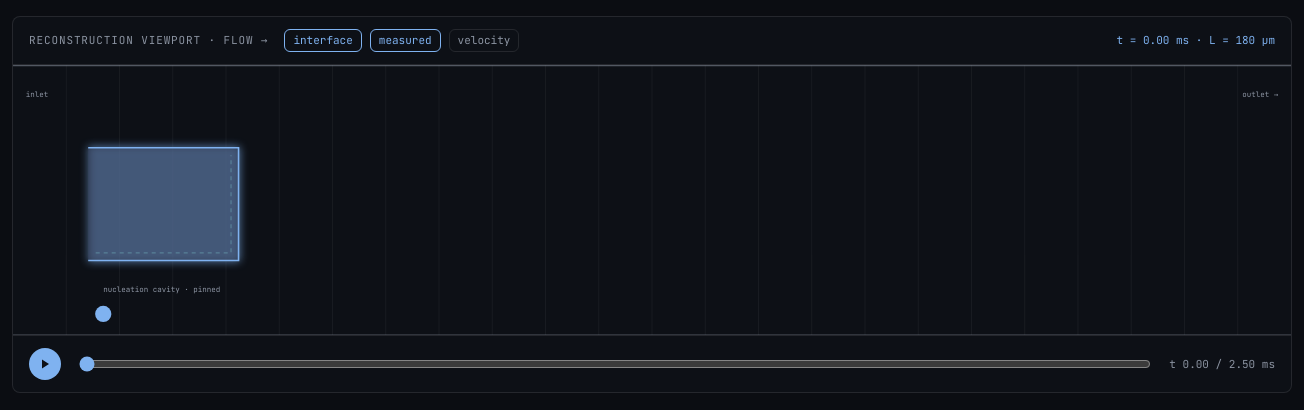
ReconstructionViewport › play toggles to pause with an accessible name
Click the button named "Play reconstruction": (45, 364) [29,348,61,380]
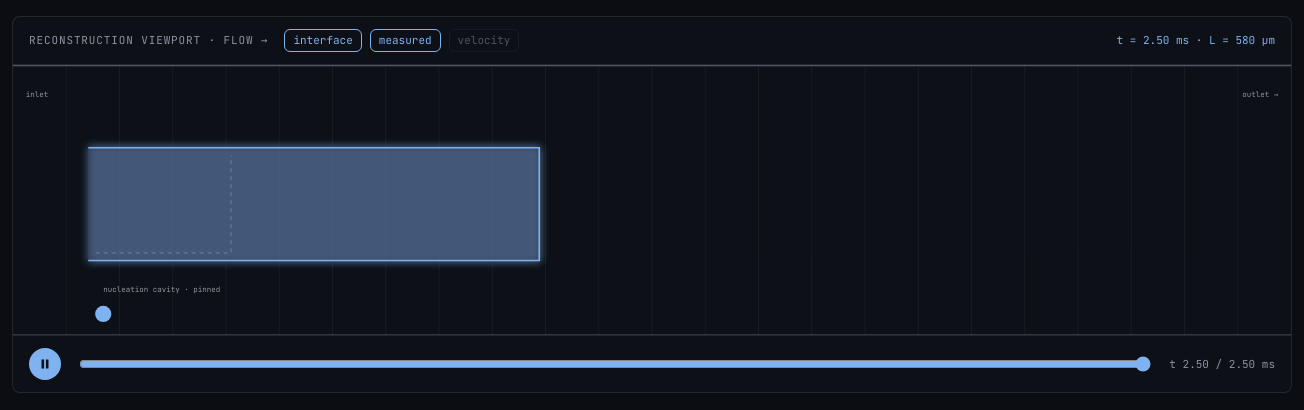
Result: the button named "Pause playback" is shown at [29,348,61,380]
